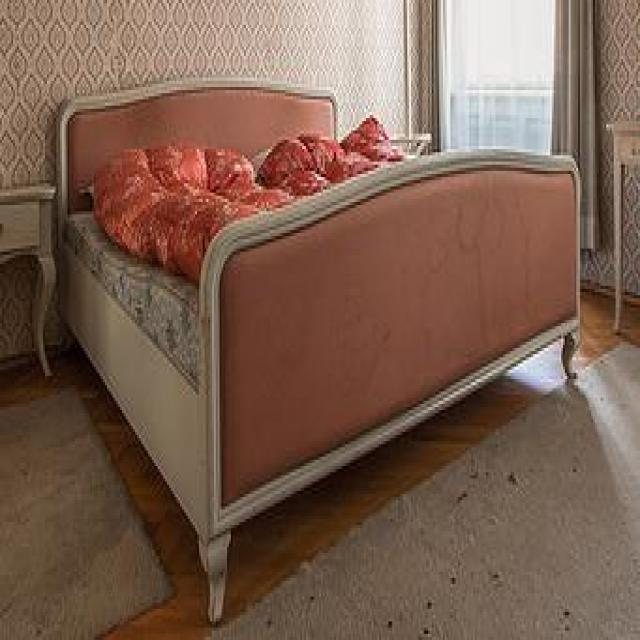bed: (55, 81, 584, 628)
